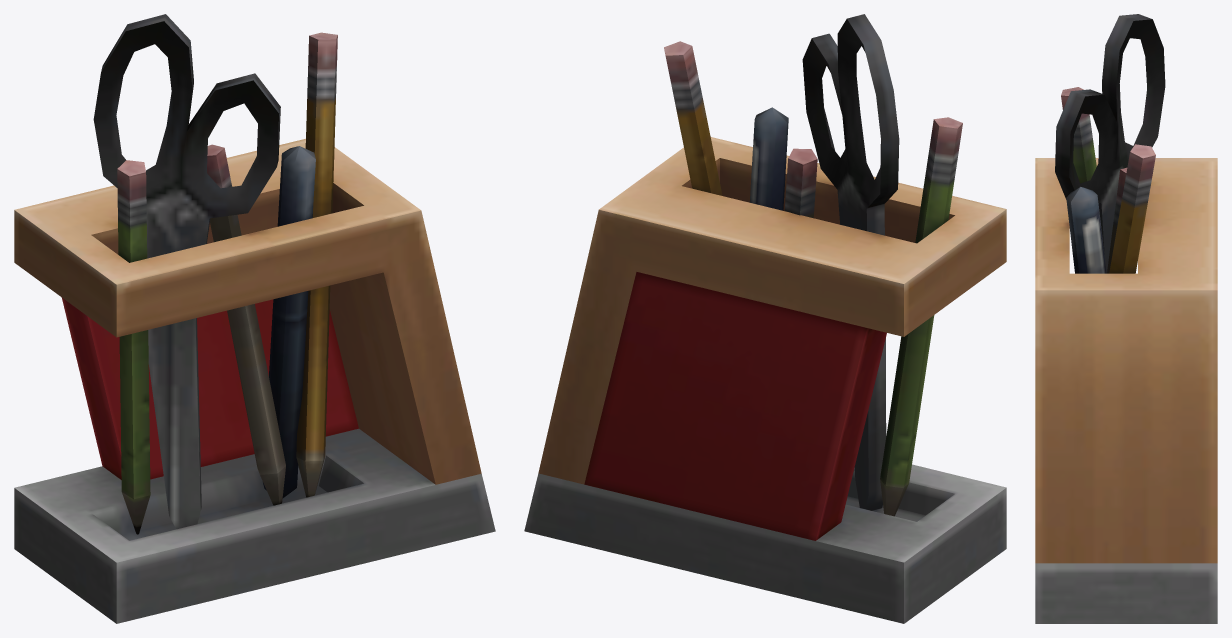
Rendered from lapicero_textura.fbx.
The picture shows the model from 3 angles, left to right: view 1: azimuth 30°, elevation 25°; view 2: azimuth 150°, elevation 25°; view 3: azimuth 270°, elevation 25°; orthographic projection. The views are drawn at different scales.
Parts seen in each view (by area): view 1: s4studio_mesh_1; view 2: s4studio_mesh_1; view 3: s4studio_mesh_1.
Part boxes in pixels (left/top/right/bottom): s4studio_mesh_1: left=14, top=14, right=495, bottom=623; s4studio_mesh_1: left=524, top=14, right=1006, bottom=623; s4studio_mesh_1: left=1035, top=14, right=1217, bottom=623.
Size of the model in its own units: 23.63 by 32.47 by 11.05.
Materials: 1 (1 with a texture image).
